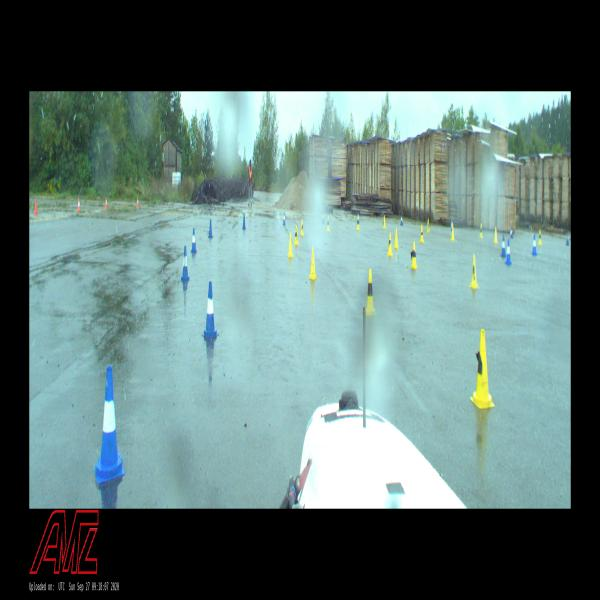blue_cone: (94, 366, 125, 484), (202, 281, 219, 339), (181, 246, 189, 281), (505, 239, 512, 265), (500, 235, 507, 257), (191, 228, 197, 253), (532, 234, 537, 256), (208, 218, 213, 238), (282, 210, 286, 226), (566, 231, 570, 246), (242, 214, 246, 229), (450, 218, 453, 231), (510, 226, 513, 238), (400, 215, 403, 226)
orange_cone: (33, 197, 38, 216), (104, 197, 108, 209), (77, 198, 80, 212), (136, 197, 139, 207)
yellow_cone: (470, 329, 495, 409), (364, 268, 376, 317), (468, 254, 478, 289), (308, 246, 317, 280), (410, 241, 418, 268), (287, 231, 294, 258), (387, 233, 393, 256), (294, 224, 299, 246), (419, 224, 424, 243), (394, 228, 398, 248), (451, 222, 455, 241), (300, 219, 304, 236), (494, 226, 498, 243), (326, 216, 330, 232), (479, 223, 483, 239), (538, 230, 542, 245), (426, 218, 430, 233), (356, 215, 360, 230), (383, 215, 386, 229)
